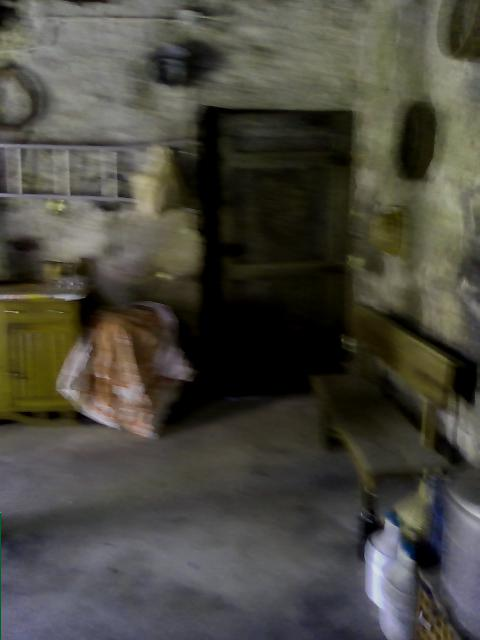closed_door: (195, 96, 356, 392)
